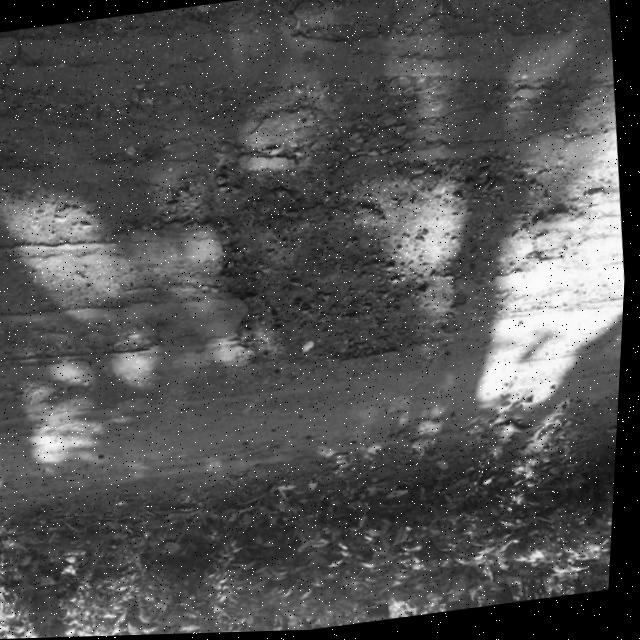Pothole: (183, 108, 608, 386)
